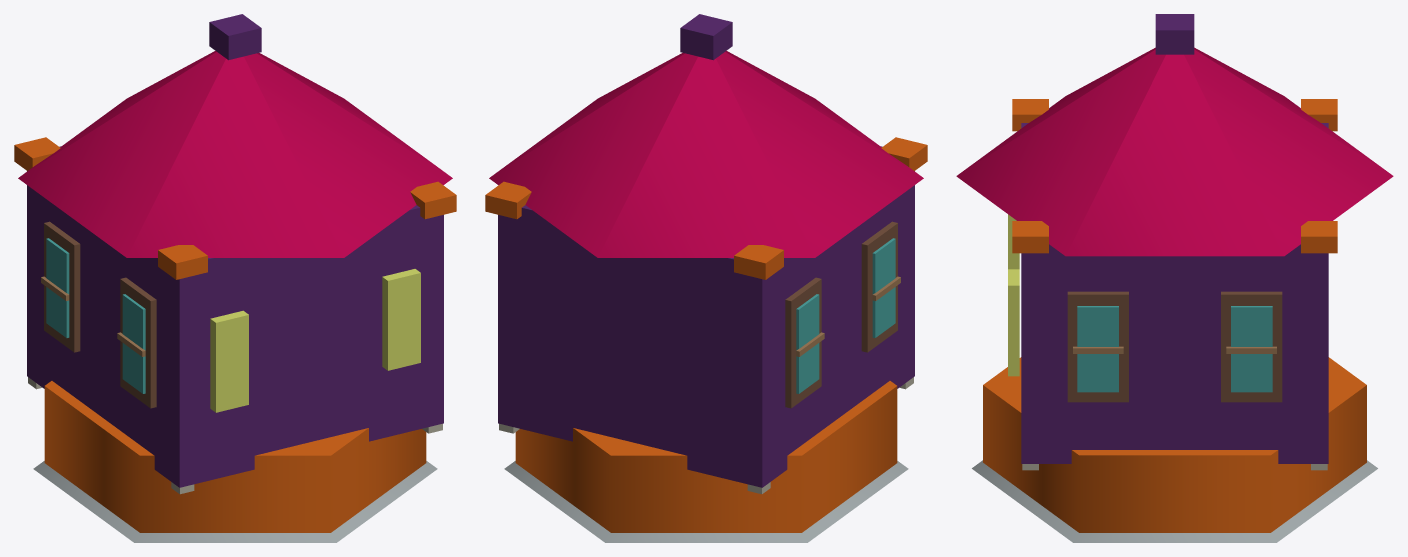
The model's file is product-hall.glb.
3 renders of one model, left to right at view 1: azimuth 30°, elevation 25°; view 2: azimuth 150°, elevation 25°; view 3: azimuth 270°, elevation 25°, orthographic.
Bounding box in the file's own units: 4.94 × 6.41 × 5.7.
